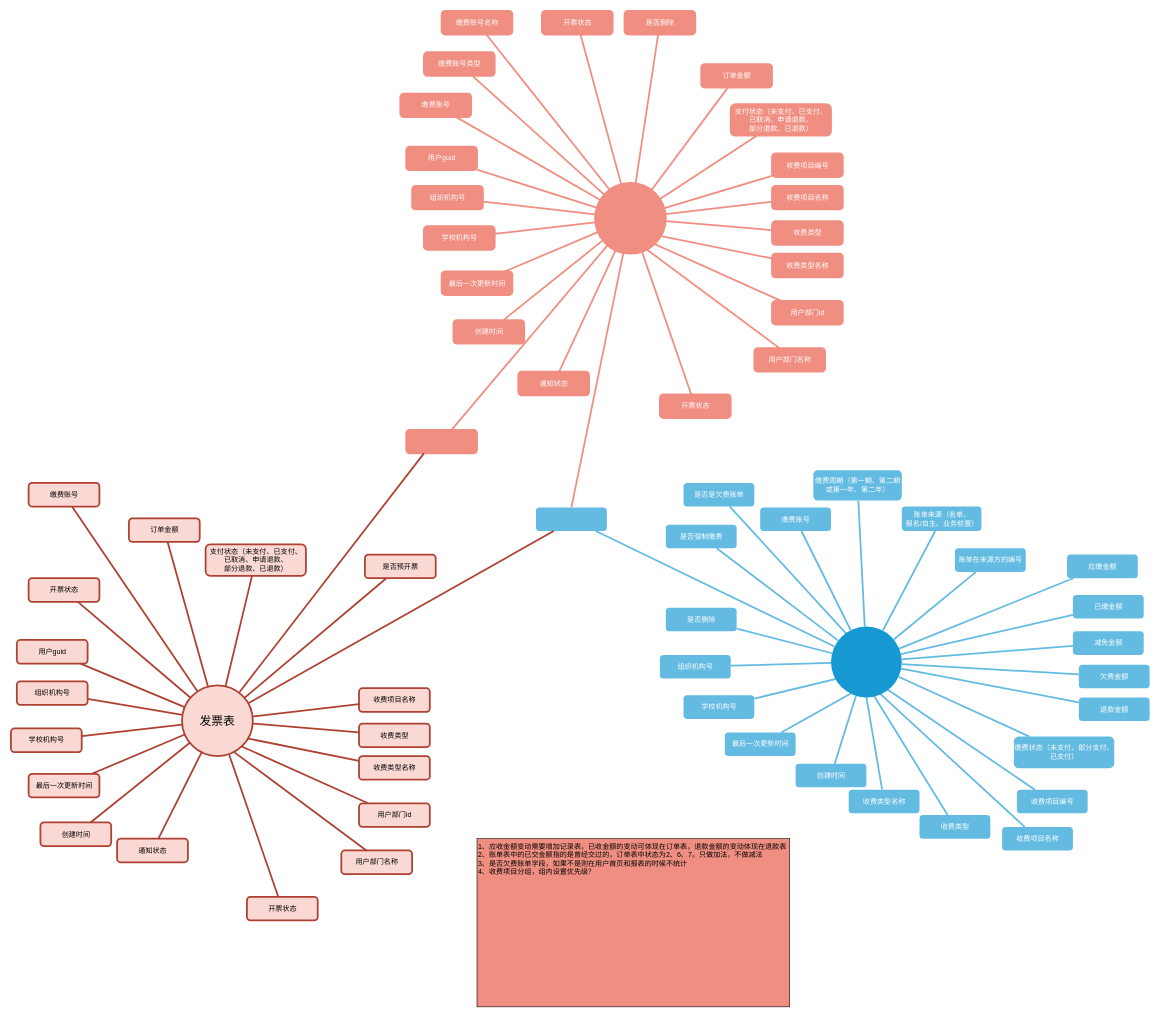
Some shapes in this 1160 by 1017 pixel diagram are drawn without their labels. Each missing label, with the centre of its shape:
订单号: (x=441, y=441)
订单表: (x=630, y=218)
账单编号: (x=571, y=519)
账单表: (x=866, y=661)
